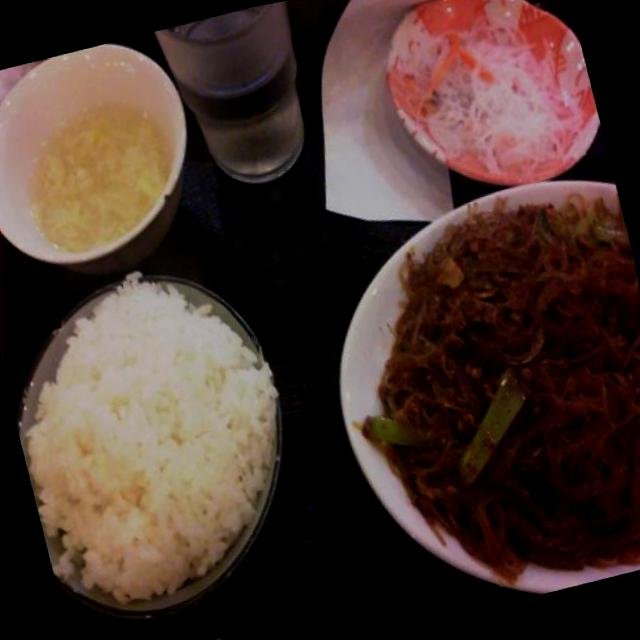Rice: (0, 267, 305, 603)
